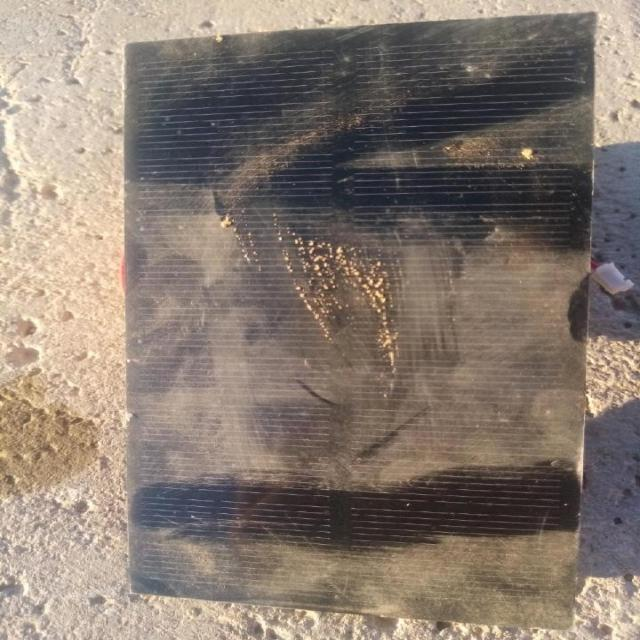faulty: (131, 40, 591, 610)
